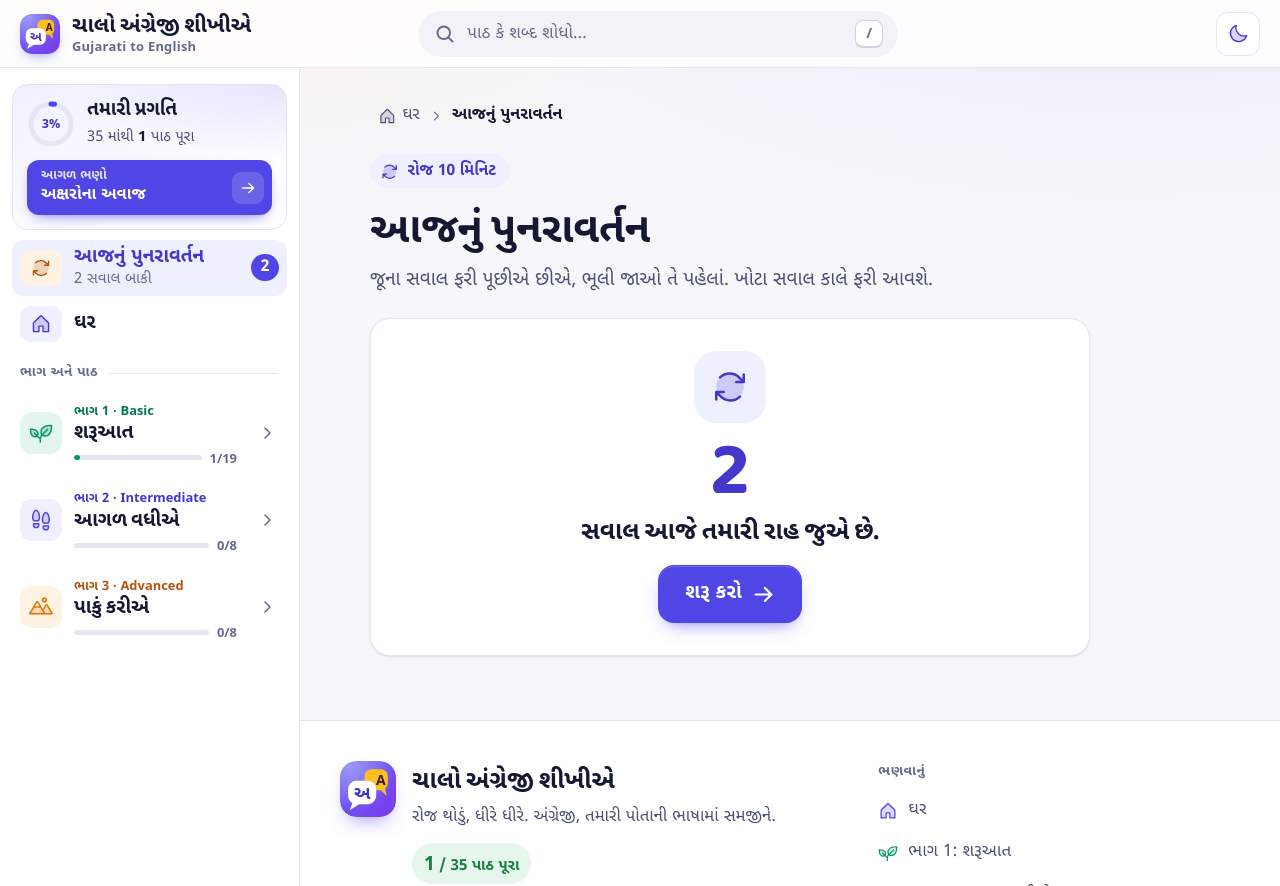
Test: daily review › brings back the questions of lessons she finished before, and runs a set
The image size is (1280, 886).
Click the button "શરૂ કરો".
click(730, 594)  # box [658,565,802,623]
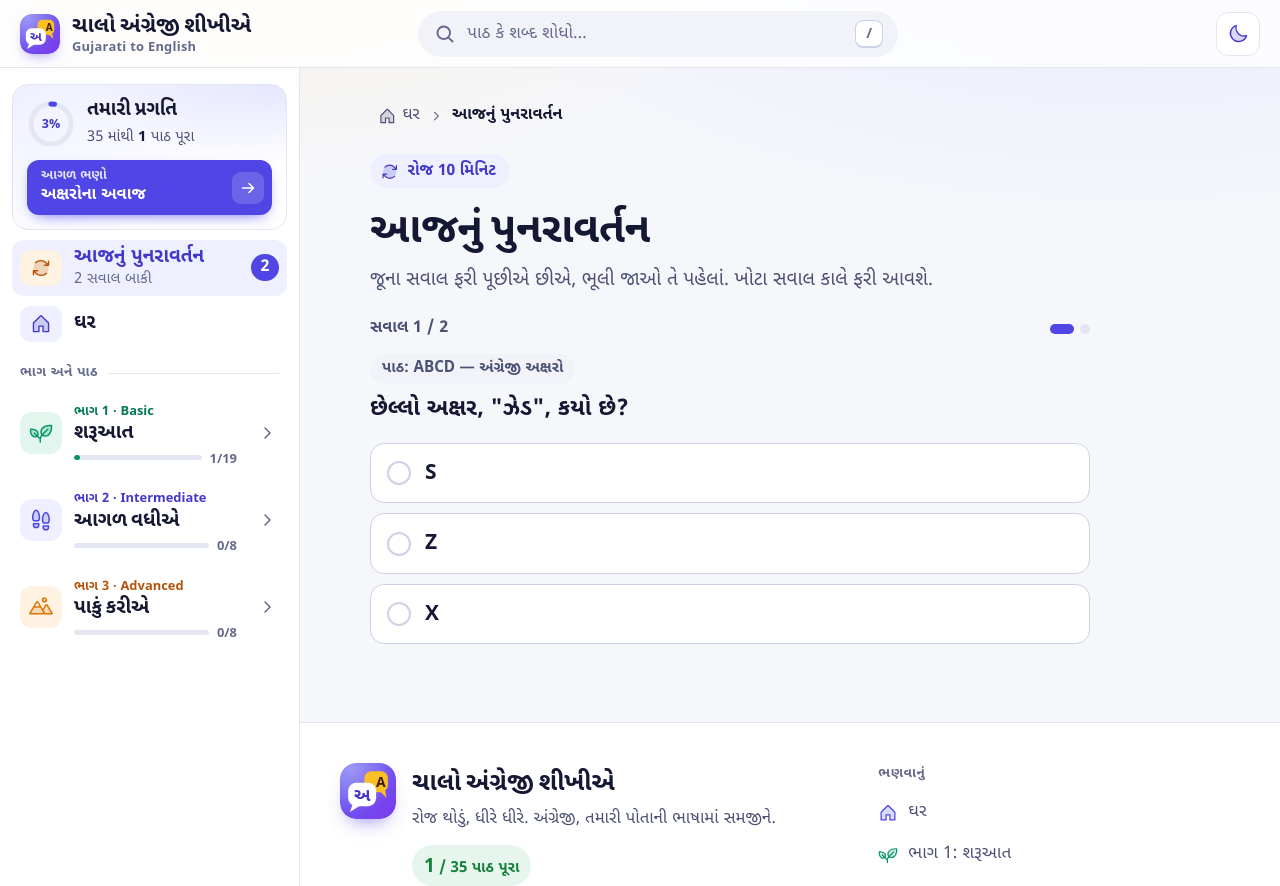
Click the button "Z".
click(399, 544)  # box [370,513,1090,574]
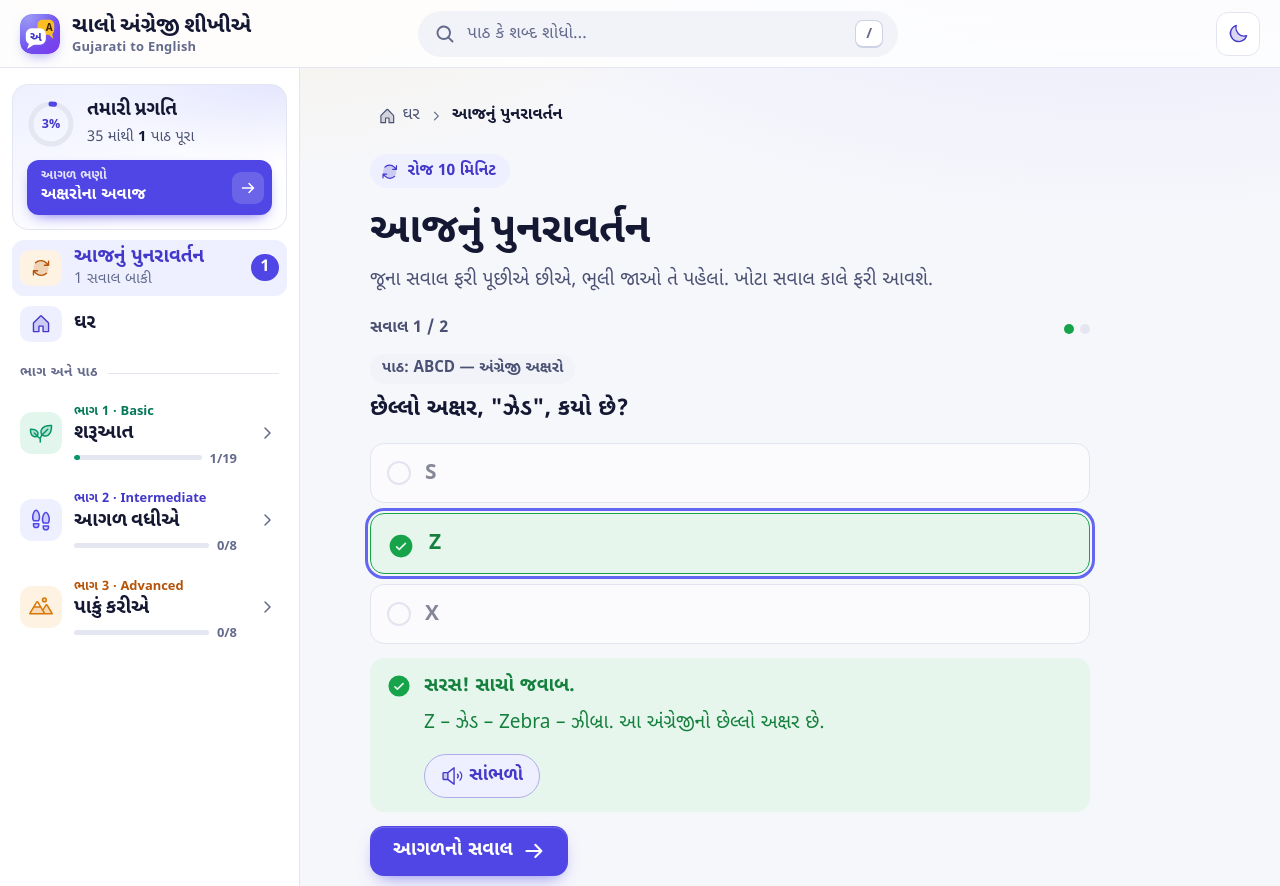
Click the button "આગળનો સવાલ".
click(469, 851)  # box [370,826,568,876]
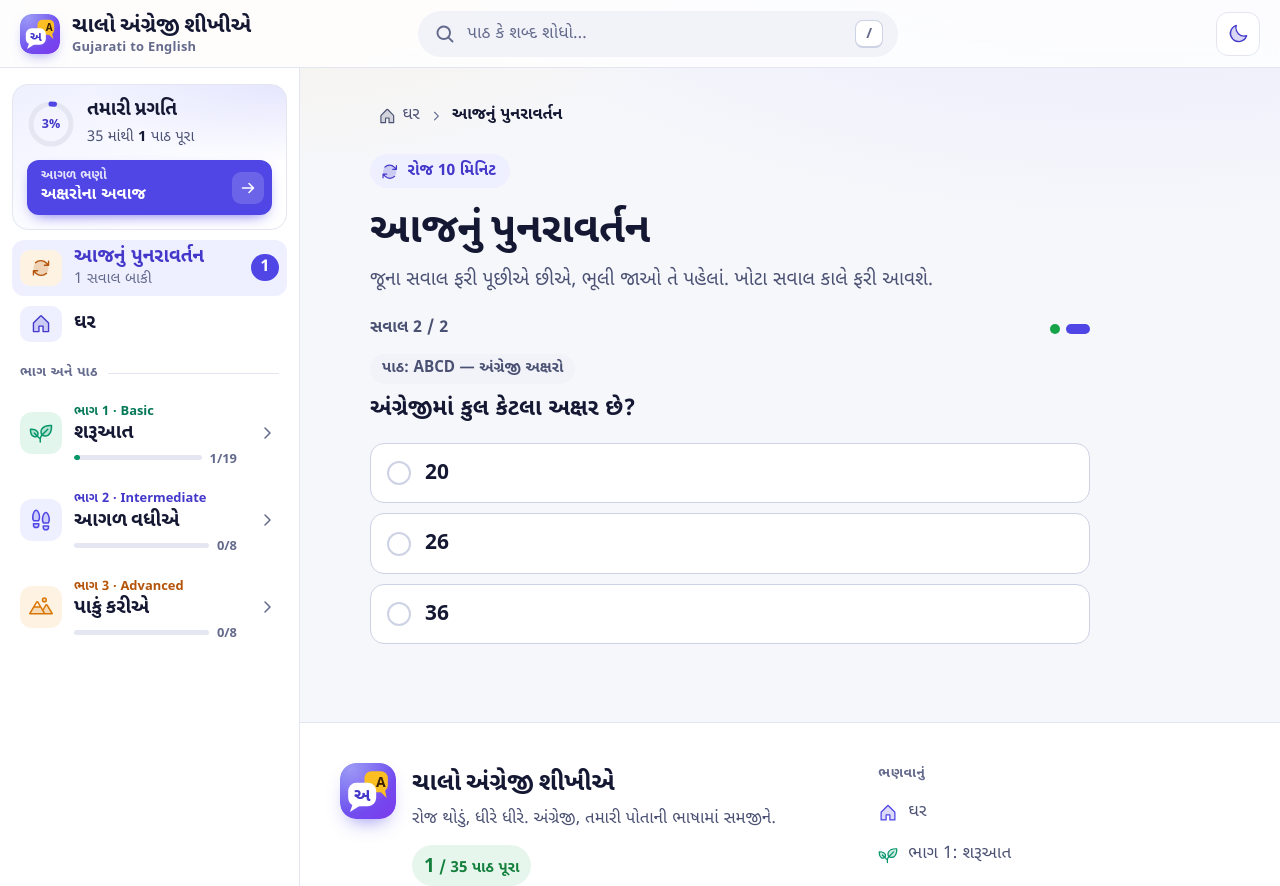
Click the button "26".
click(399, 544)  # box [370,513,1090,574]
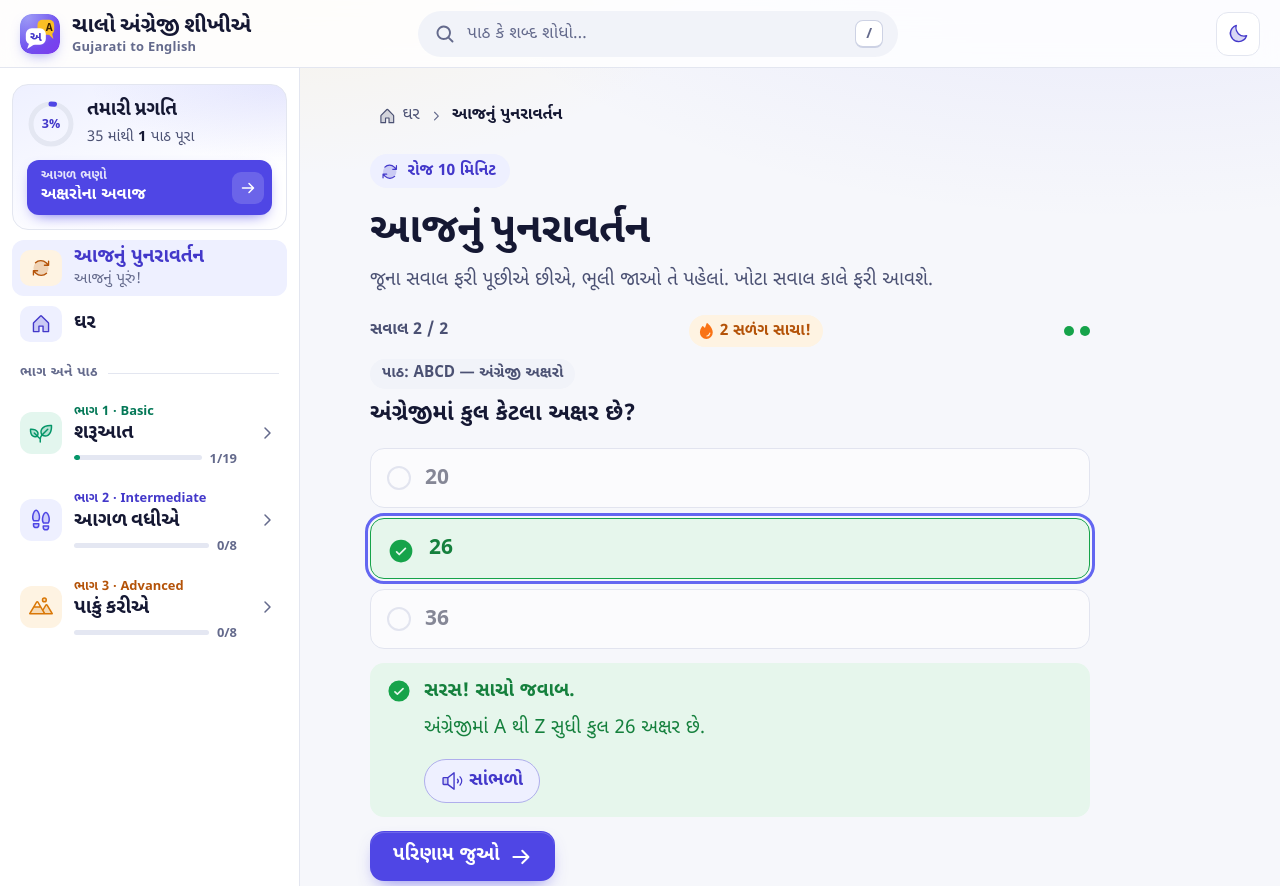
Click the button "પરિણામ જુઓ".
click(462, 856)  # box [370,831,555,881]
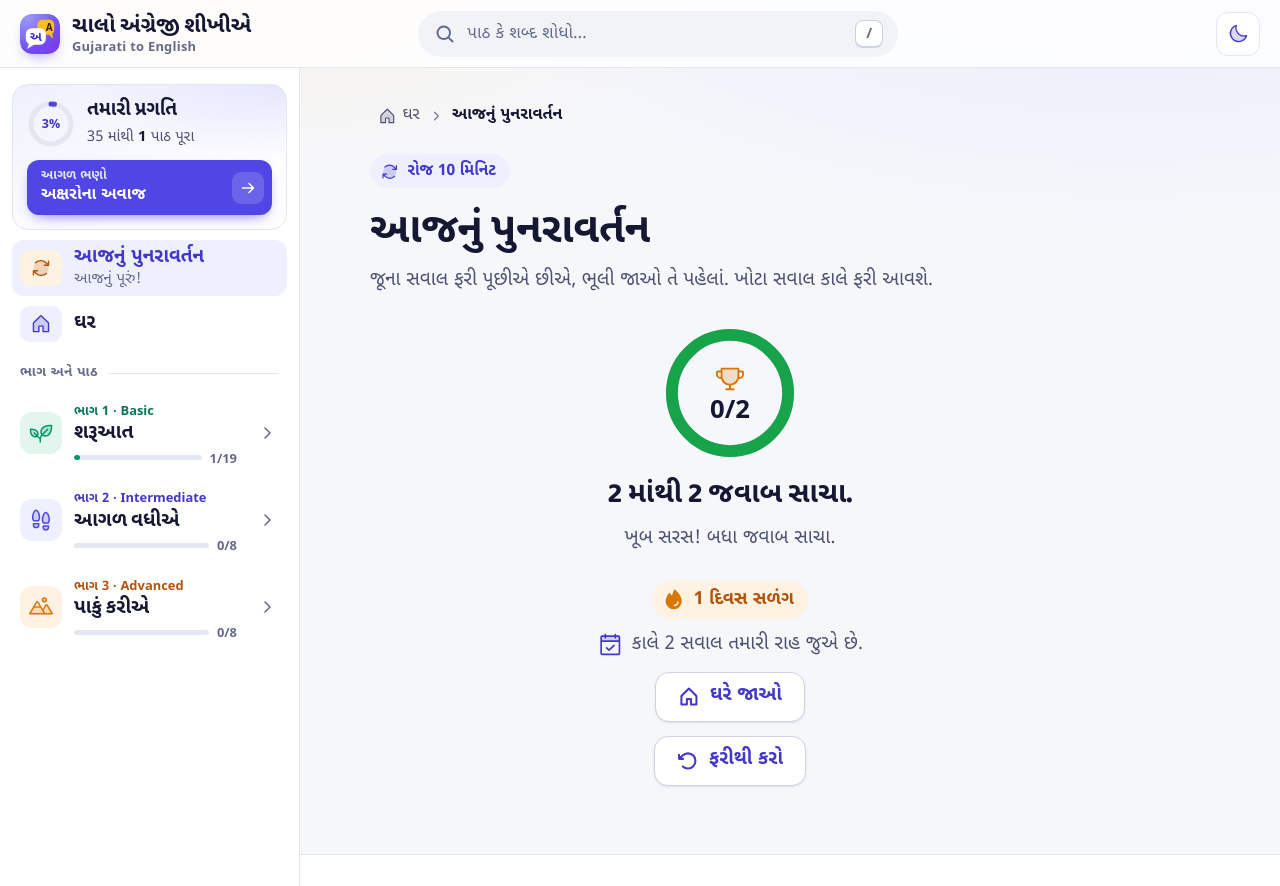
Now the text "1 દિવસ સળંગ" is shown, box [652,581,808,619]
